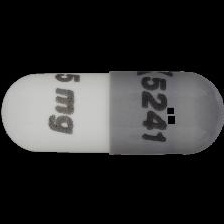54868-5443: (0, 0, 224, 224)
